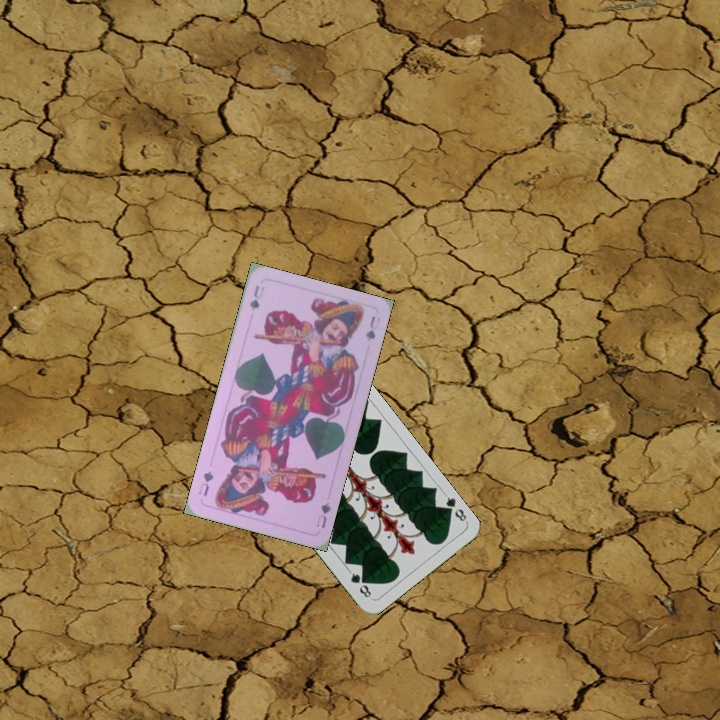G8: (439, 490, 470, 525)
GU: (312, 498, 333, 531), (246, 281, 267, 313)
